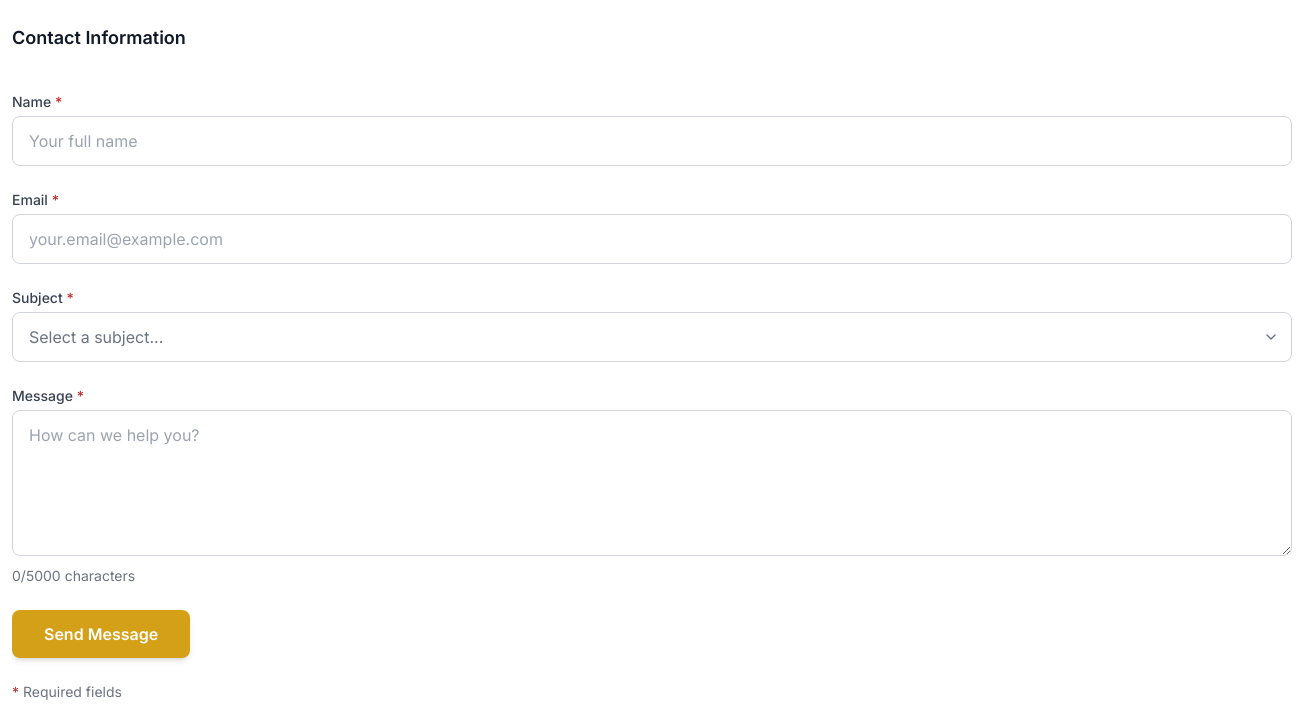
Test: Contact Page › Client-Side Validation › shows error when submitting with empty name
Note: Focus and blur to trigger validation
Click the field labelled "Name *" at x=652, y=141, box [12,116,1292,166]
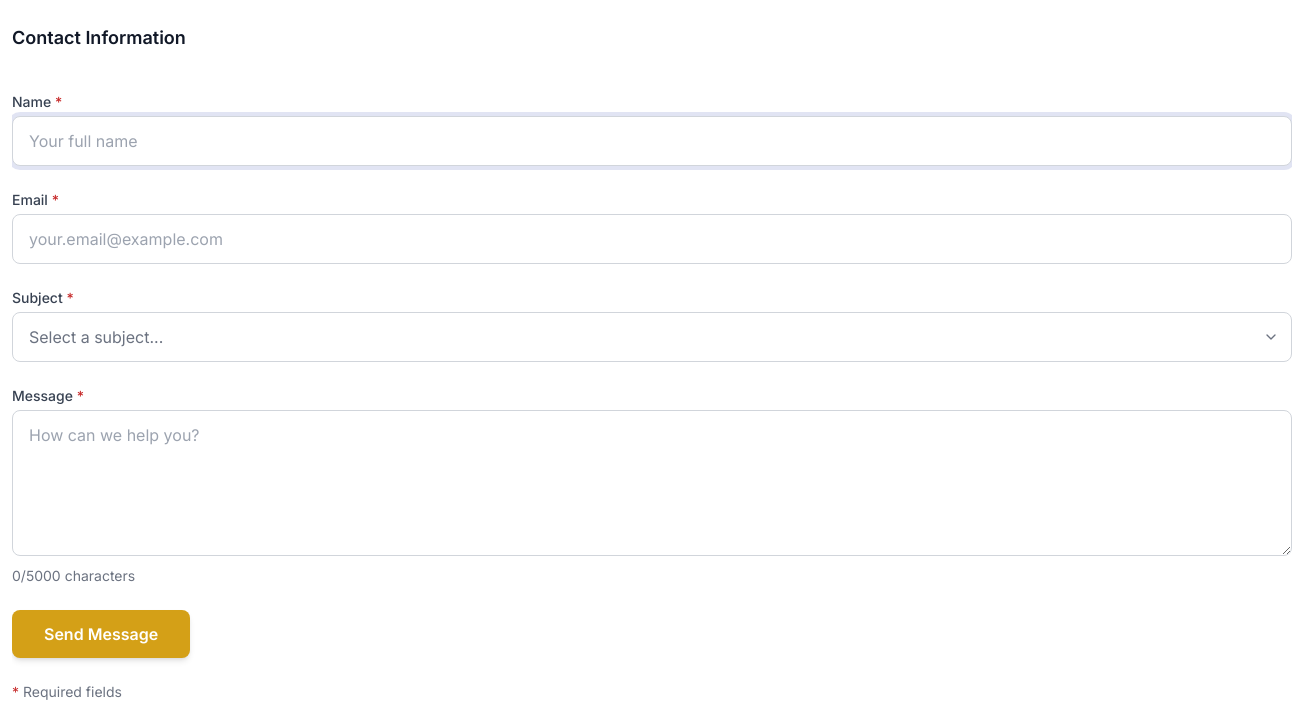
Press Tab
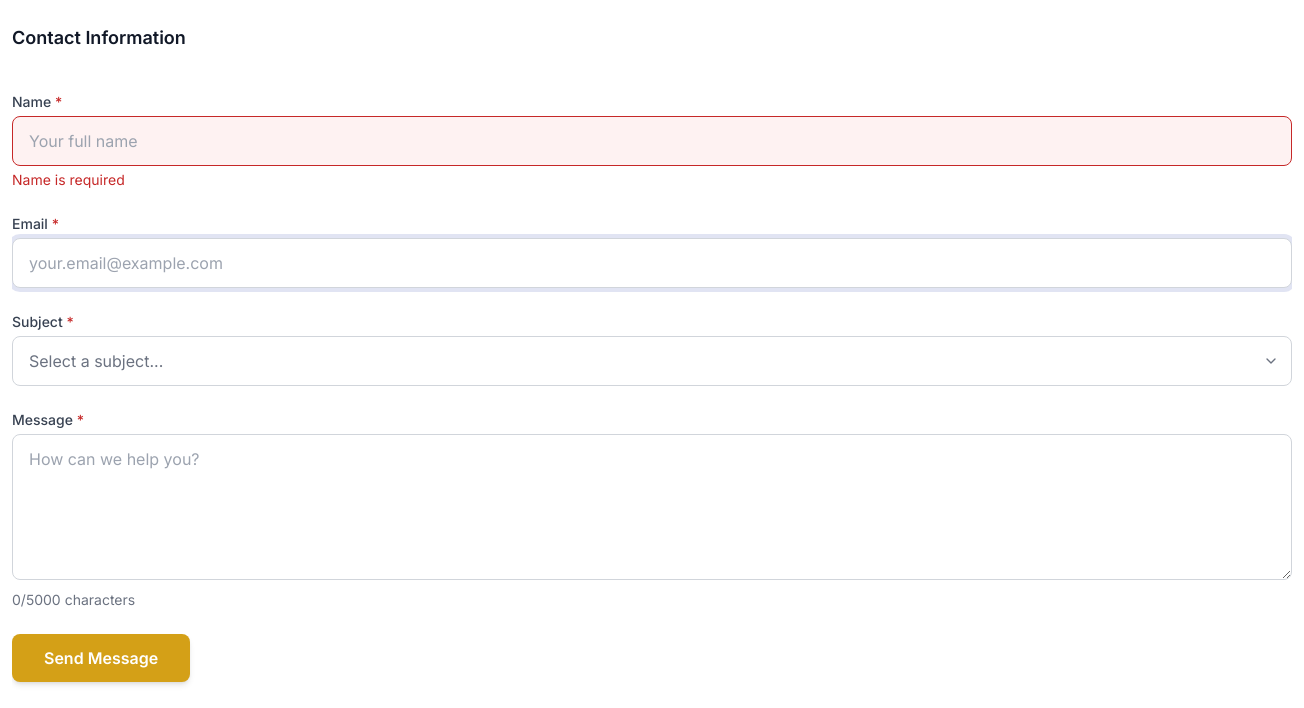
Expected: the text "Name is required" is shown, [12,171,125,188]
